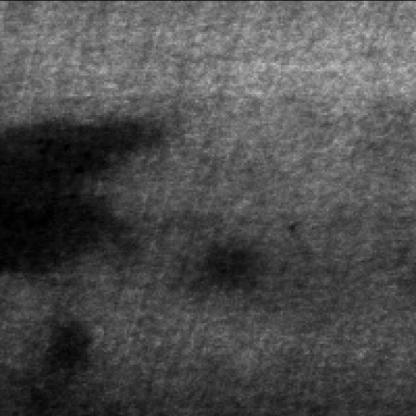patches: (2, 119, 168, 278), (200, 248, 266, 300), (52, 324, 98, 370)
